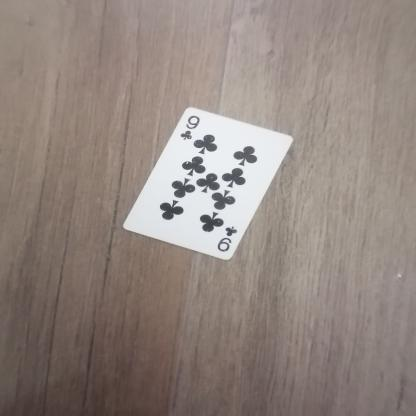9C: (198, 226, 248, 270), (173, 104, 209, 152)
